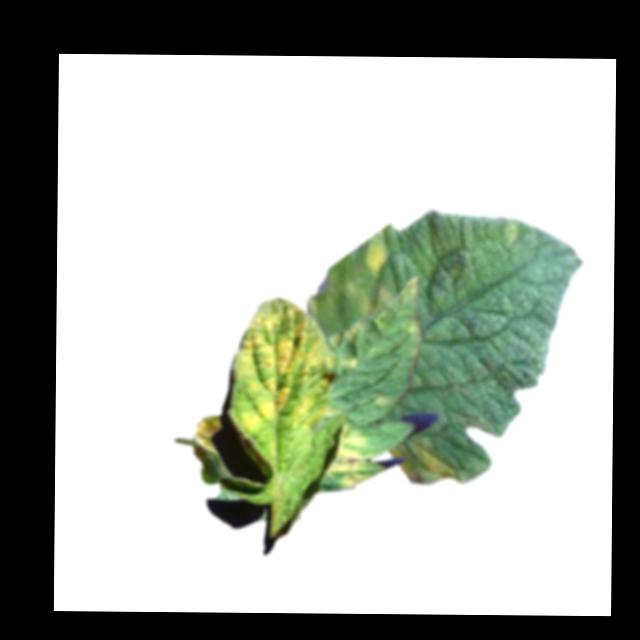Leaf_Mold: (226, 295, 337, 434), (325, 422, 377, 491), (391, 436, 461, 486), (366, 234, 391, 272), (403, 274, 422, 301), (341, 319, 363, 342), (375, 390, 396, 411)
